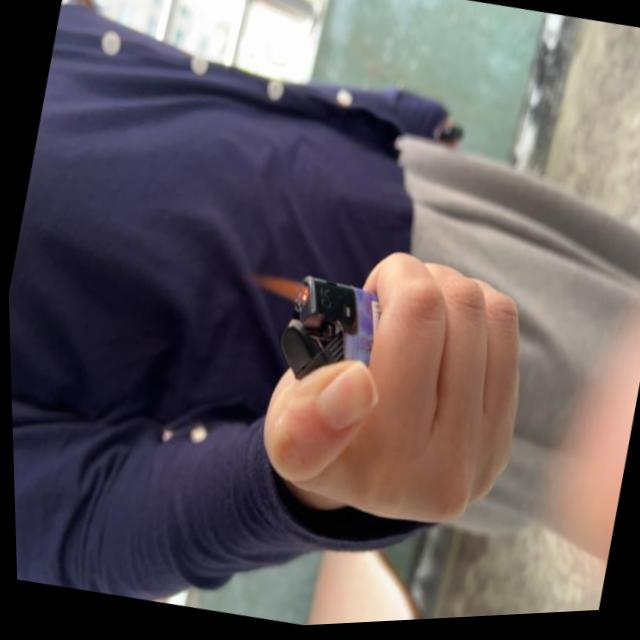Fire: (242, 268, 312, 316)
